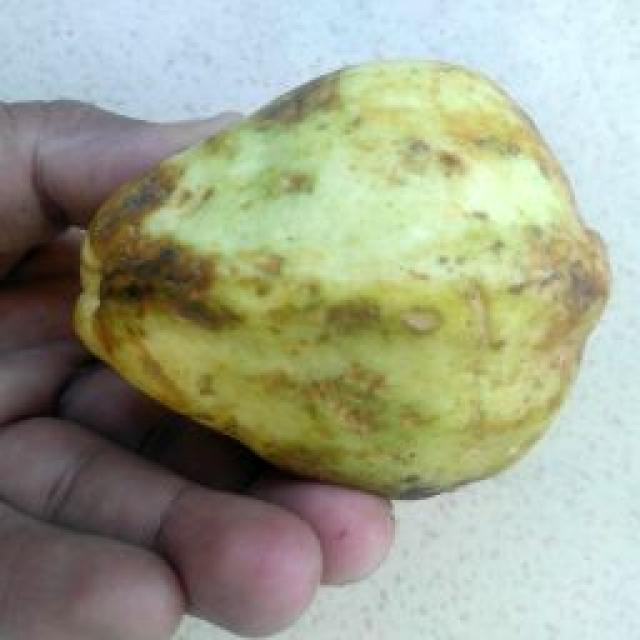Bad_Guava: (75, 61, 609, 496)
